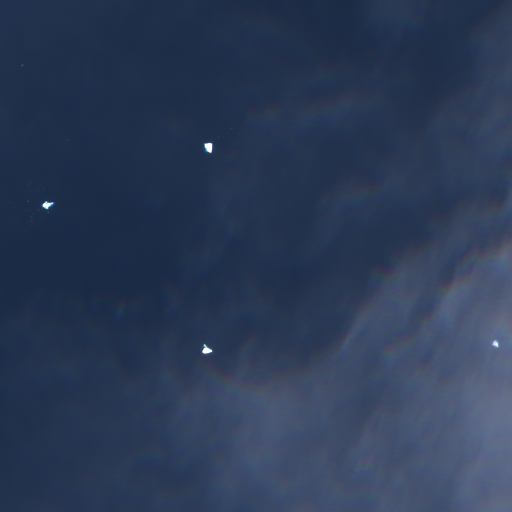Iceberg: (202, 343, 212, 353), (204, 142, 213, 153), (42, 201, 54, 208), (492, 340, 498, 347), (21, 64, 22, 65)
